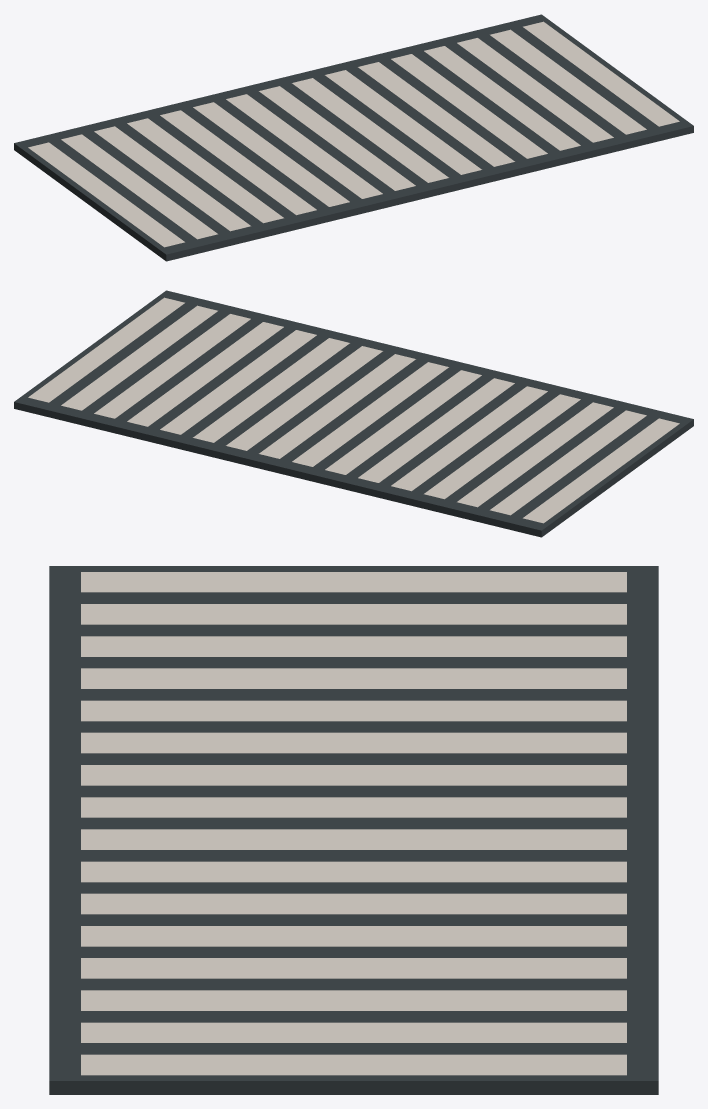
Rendered from SM_road_14.glb.
3 renders of one model, top to bottom at view 1: azimuth 30°, elevation 25°; view 2: azimuth 150°, elevation 25°; view 3: azimuth 270°, elevation 25°, orthographic. The views are drawn at different scales.
Visible parts, largest first — view 1: SM_road_14; view 2: SM_road_14; view 3: SM_road_14.
Part boxes in pixels (x1,y1,x2,y2): SM_road_14: (14,14,693,261); SM_road_14: (14,290,693,537); SM_road_14: (49,566,658,1094).
Size of the model in its own units: 4 by 0.05 by 2.
Materials: 1 (1 with a texture image).
